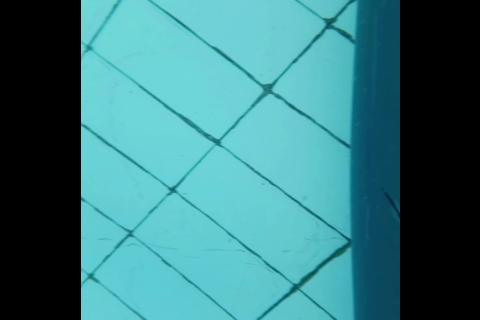keretakan: (377, 185, 400, 221)
